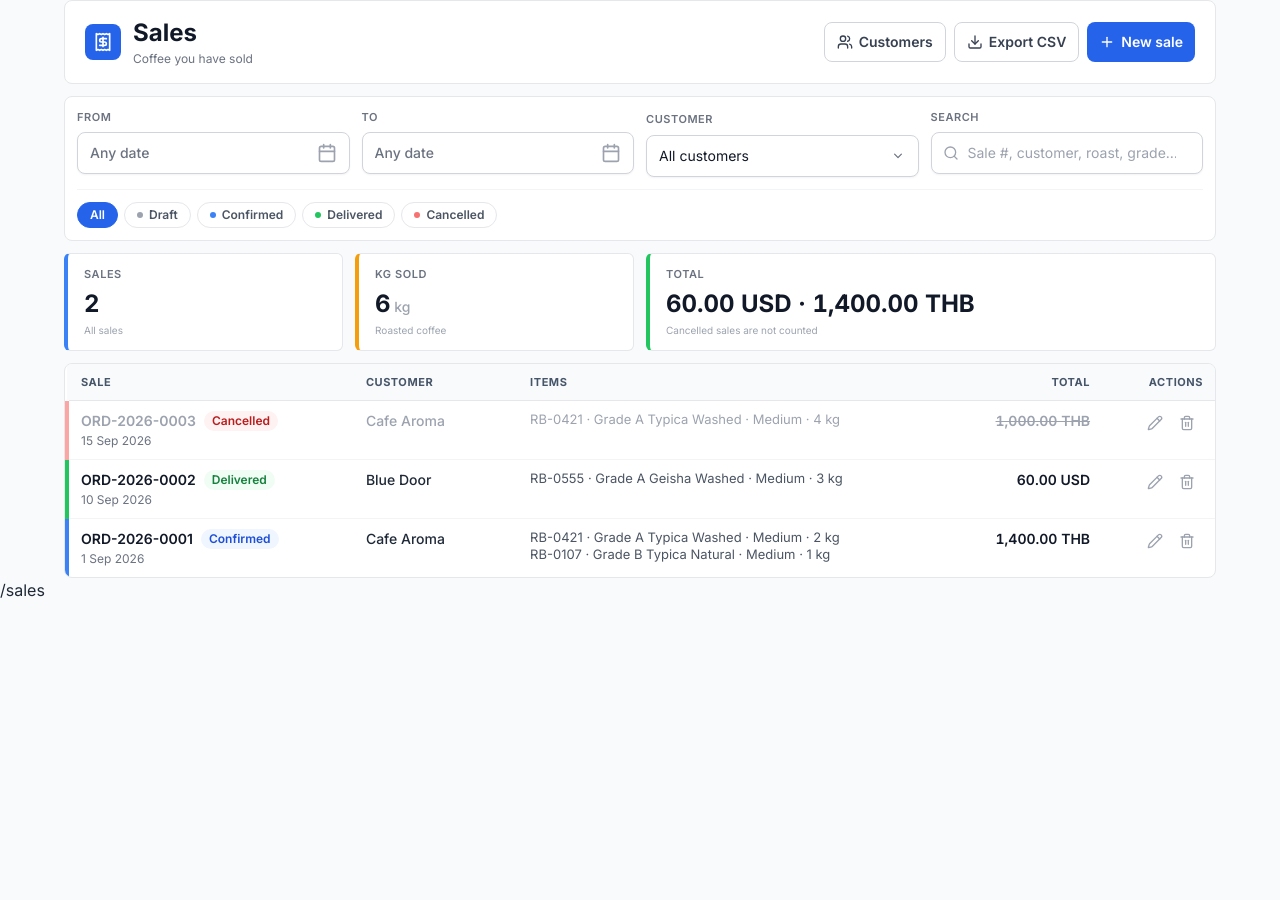
SalesLog › opens details on a row click and on Enter
Click the row named "Sale ORD-2026-0002" at point(641, 488), box [67,459,1215,518]
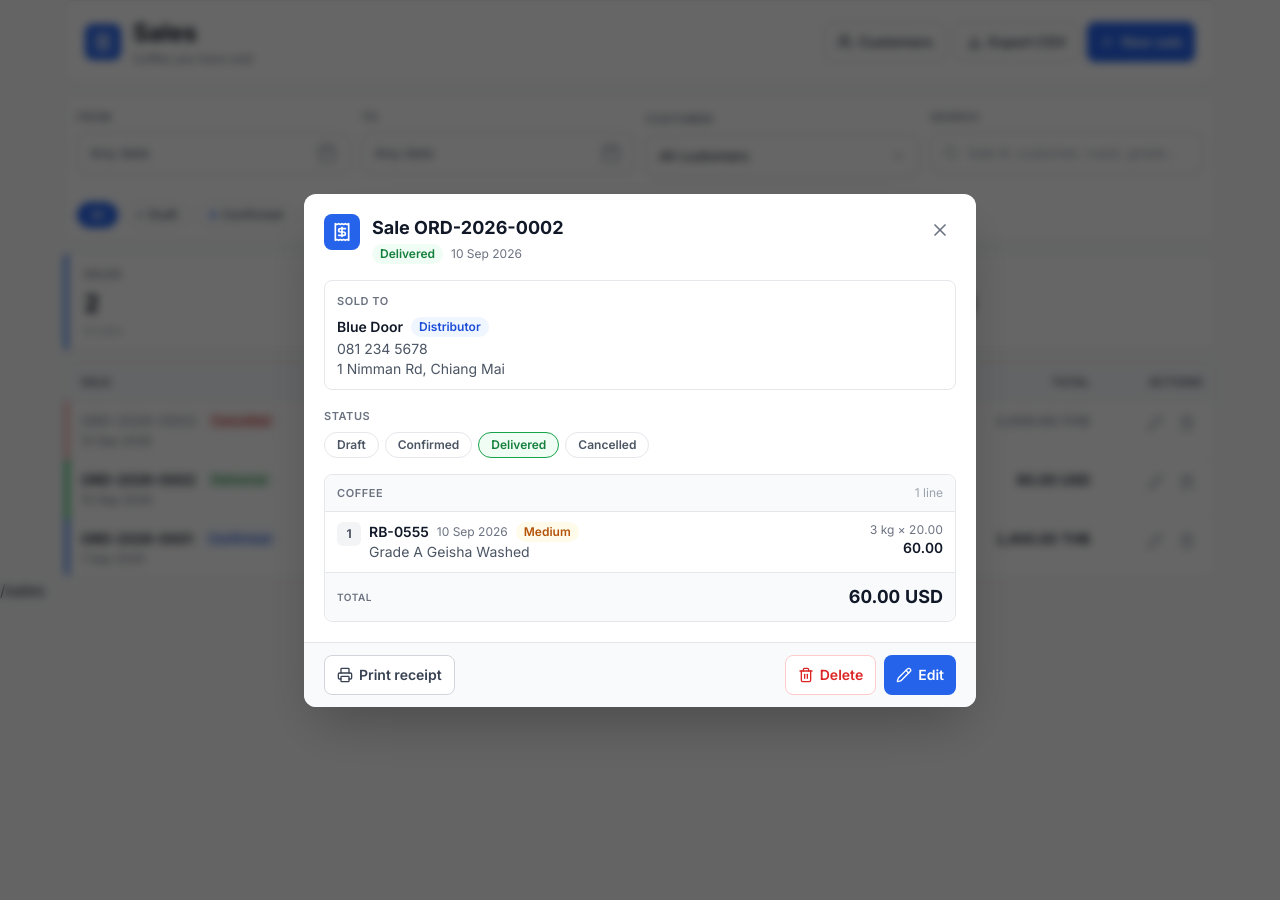
expect the dialog "Sale ORD-2026-0002" is shown: met
Click the button named "Close" at point(940, 230), box [924,214,956,246]
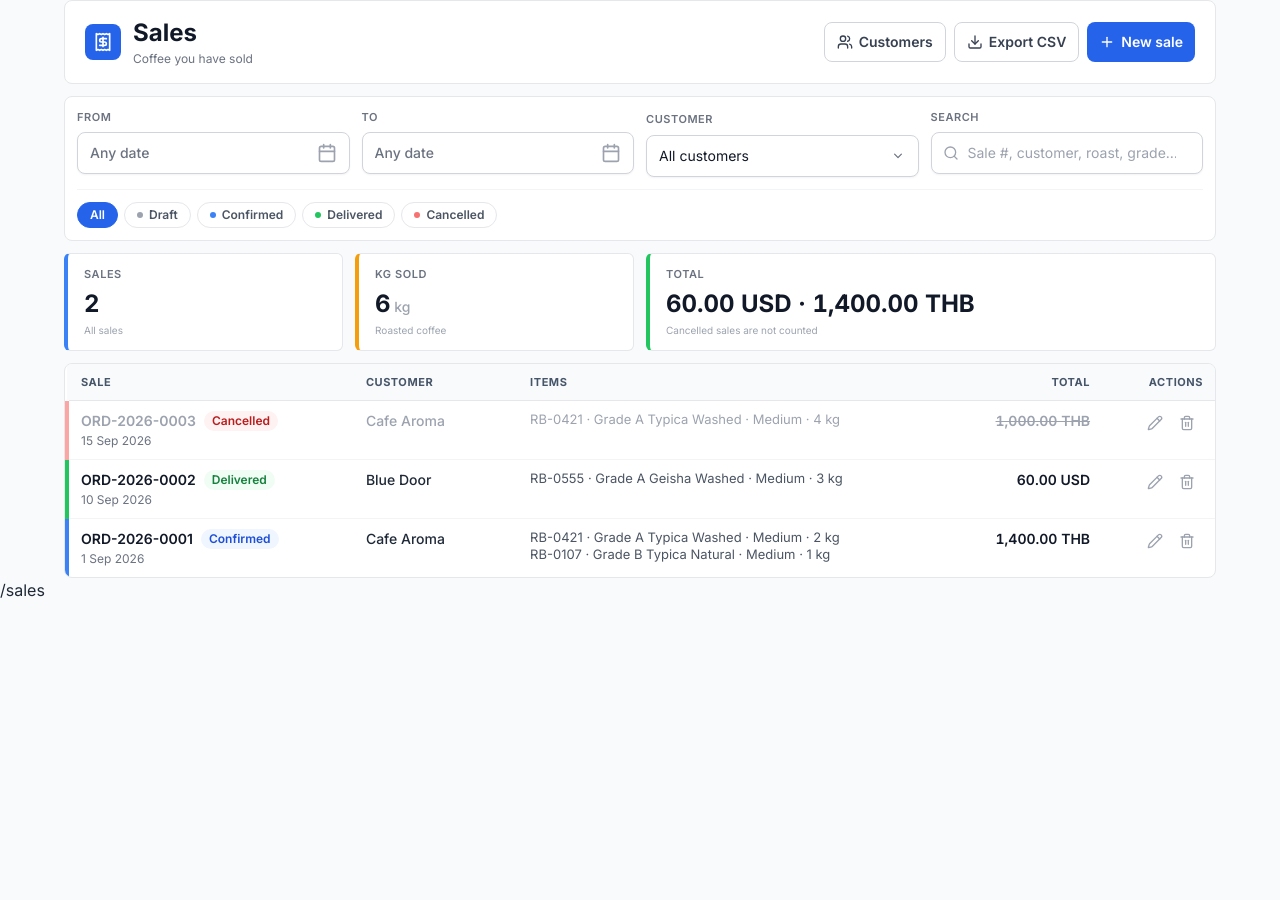
expect the dialog is gone: met
Press Enter in the row named "Sale ORD-2026-0001", box [67,518,1215,576]
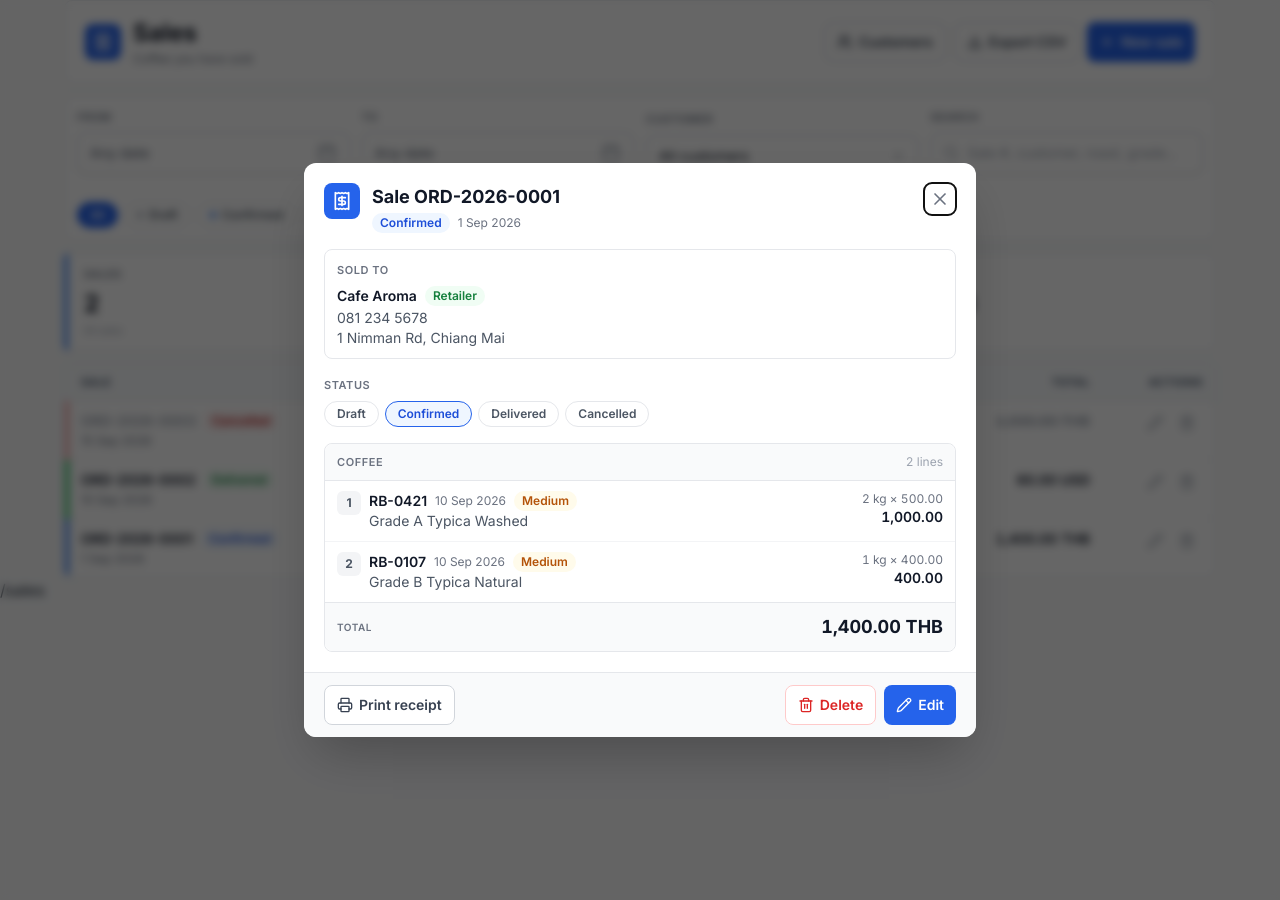
expect the dialog "Sale ORD-2026-0001" is shown: met
